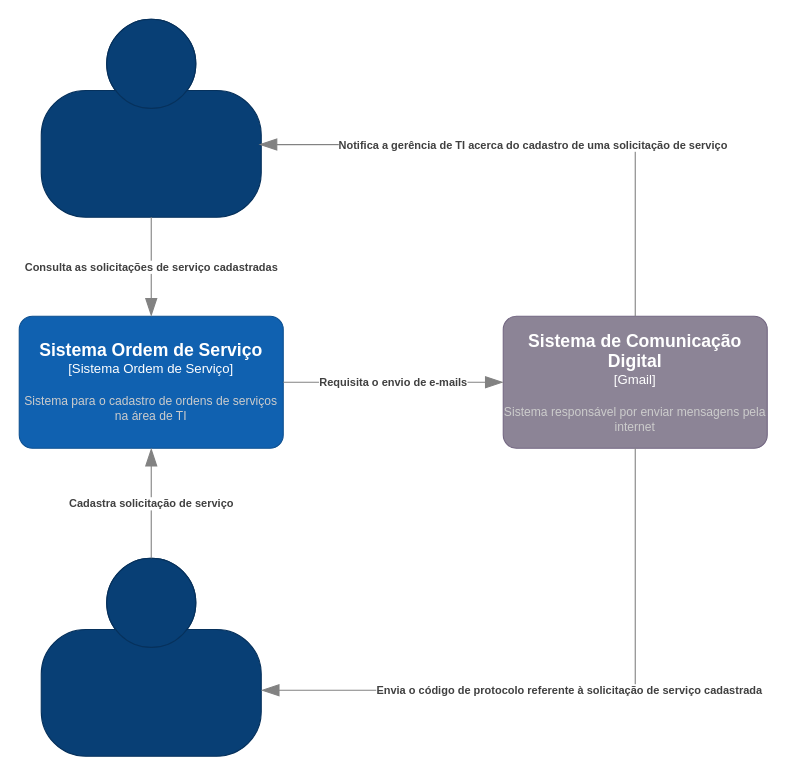
This 787x776 diagram has some shape labels left out. The shapes that lost their labels are listed below. From the top down, each one's centre as x and y in pixels, then its label:
pixel 150 117: Gerência [Person] Gerente de TI e Subgerente de TI
pixel 150 656: Servidor [Person] Técnico Administrativo em Educação e Docente
